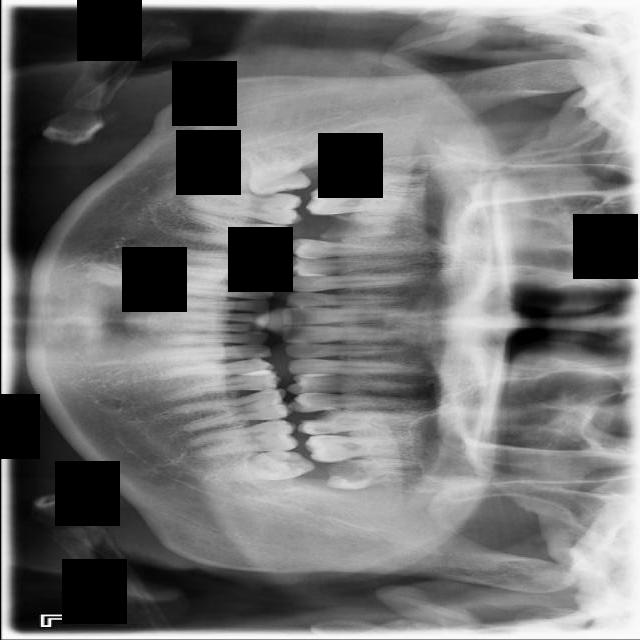3M ESPE Implant: (318, 163, 431, 193)
52: (323, 450, 373, 489), (327, 161, 383, 192), (317, 214, 365, 238), (298, 407, 336, 422), (311, 426, 339, 436), (250, 193, 275, 200)
73: (65, 582, 80, 589)
BioHorizons Implant: (303, 434, 434, 464)
BioLife Implant: (324, 457, 439, 491)
Biomet 3i Implant: (211, 446, 316, 486)
Blue Sky Bio Implant: (188, 417, 300, 460)
Caries: (304, 182, 431, 216)
Implant: (189, 185, 304, 227)
Keystone Dental Implant: (234, 138, 312, 200)
